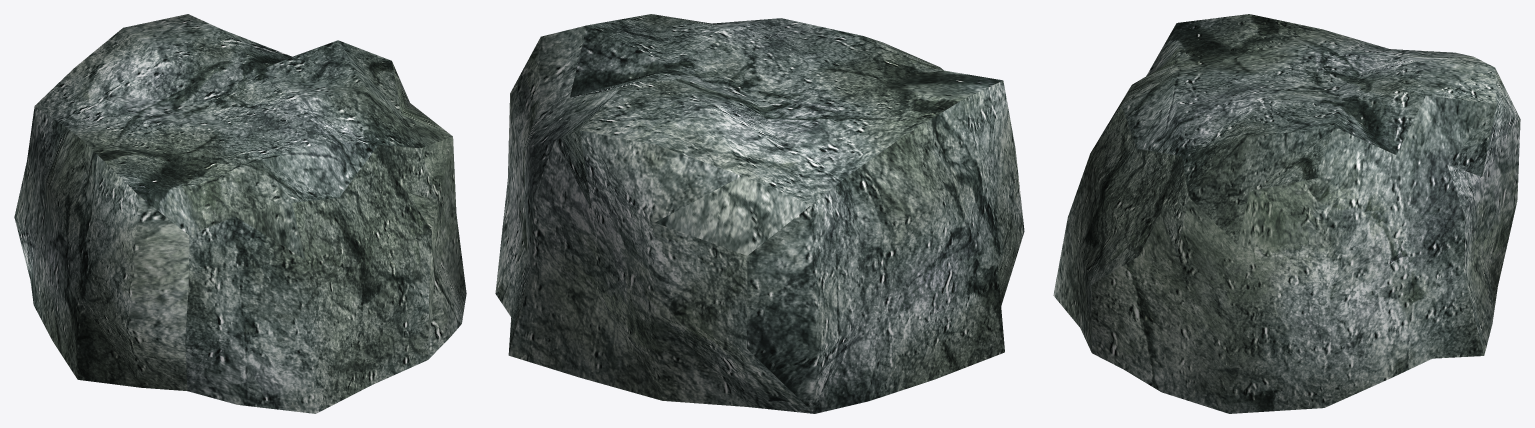
File: Rock_A.obj
3 views of the same model, side by side, from view 1: azimuth 30°, elevation 25°; view 2: azimuth 150°, elevation 25°; view 3: azimuth 270°, elevation 25° (orthographic). The views are drawn at different scales.
Visible parts, largest first — view 1: Rock_A:polySurface64 Rock_A:polySurface65 Rock_A:polySurface66 R; view 2: Rock_A:polySurface64 Rock_A:polySurface65 Rock_A:polySurface66 R; view 3: Rock_A:polySurface64 Rock_A:polySurface65 Rock_A:polySurface66 R.
Boxes of the visible parts, x1,y1,x2,y2 form: Rock_A:polySurface64 Rock_A:polySurface65 Rock_A:polySurface66 R: (14,14,466,413); Rock_A:polySurface64 Rock_A:polySurface65 Rock_A:polySurface66 R: (495,14,1024,413); Rock_A:polySurface64 Rock_A:polySurface65 Rock_A:polySurface66 R: (1053,14,1520,413).
Bounding box in the file's own units: 125 × 74.09 × 126.
Materials: 1 (1 with a texture image).
